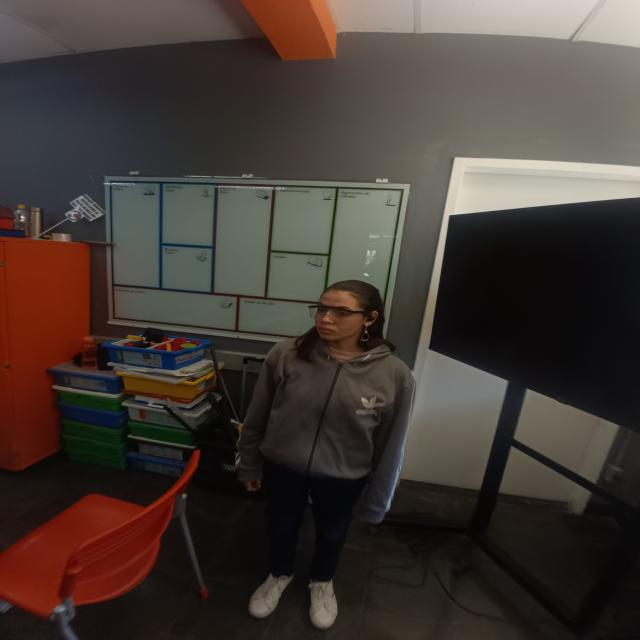oculos-epi: (308, 305, 371, 324)
